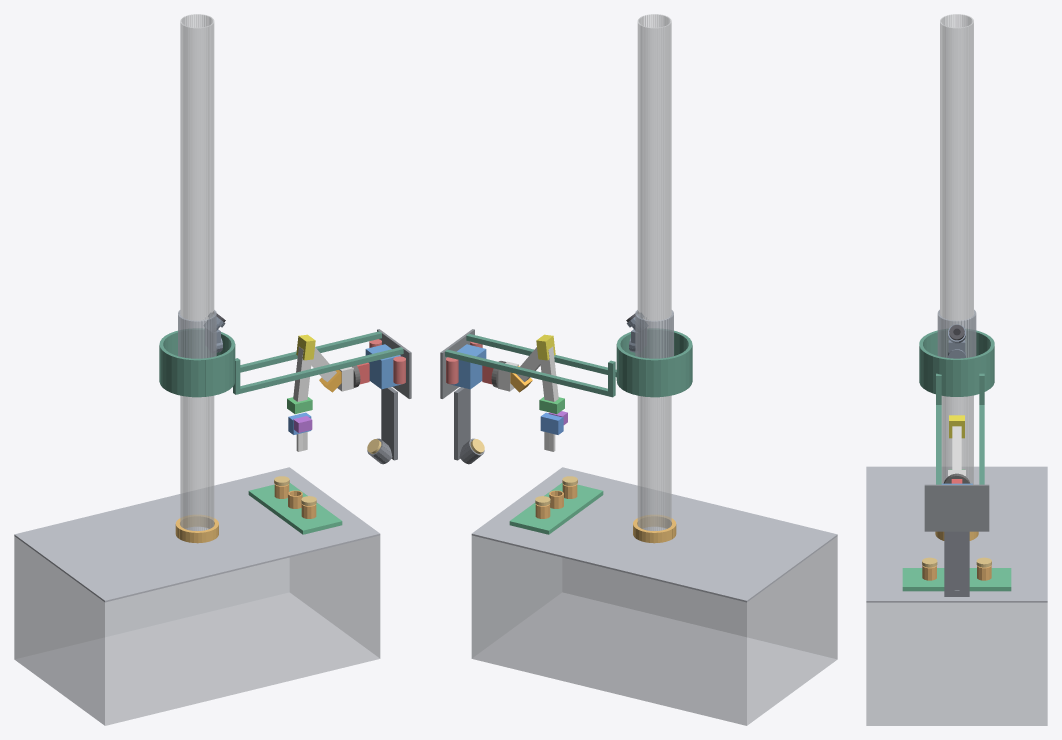
The model's file is transplant-seedling-step1-pick-v2.glb.
3 renders of one model, left to right at view 1: azimuth 30°, elevation 25°; view 2: azimuth 150°, elevation 25°; view 3: azimuth 270°, elevation 25°, orthographic.
Size of the model in its own units: 0.854 by 1.55 by 0.4.
